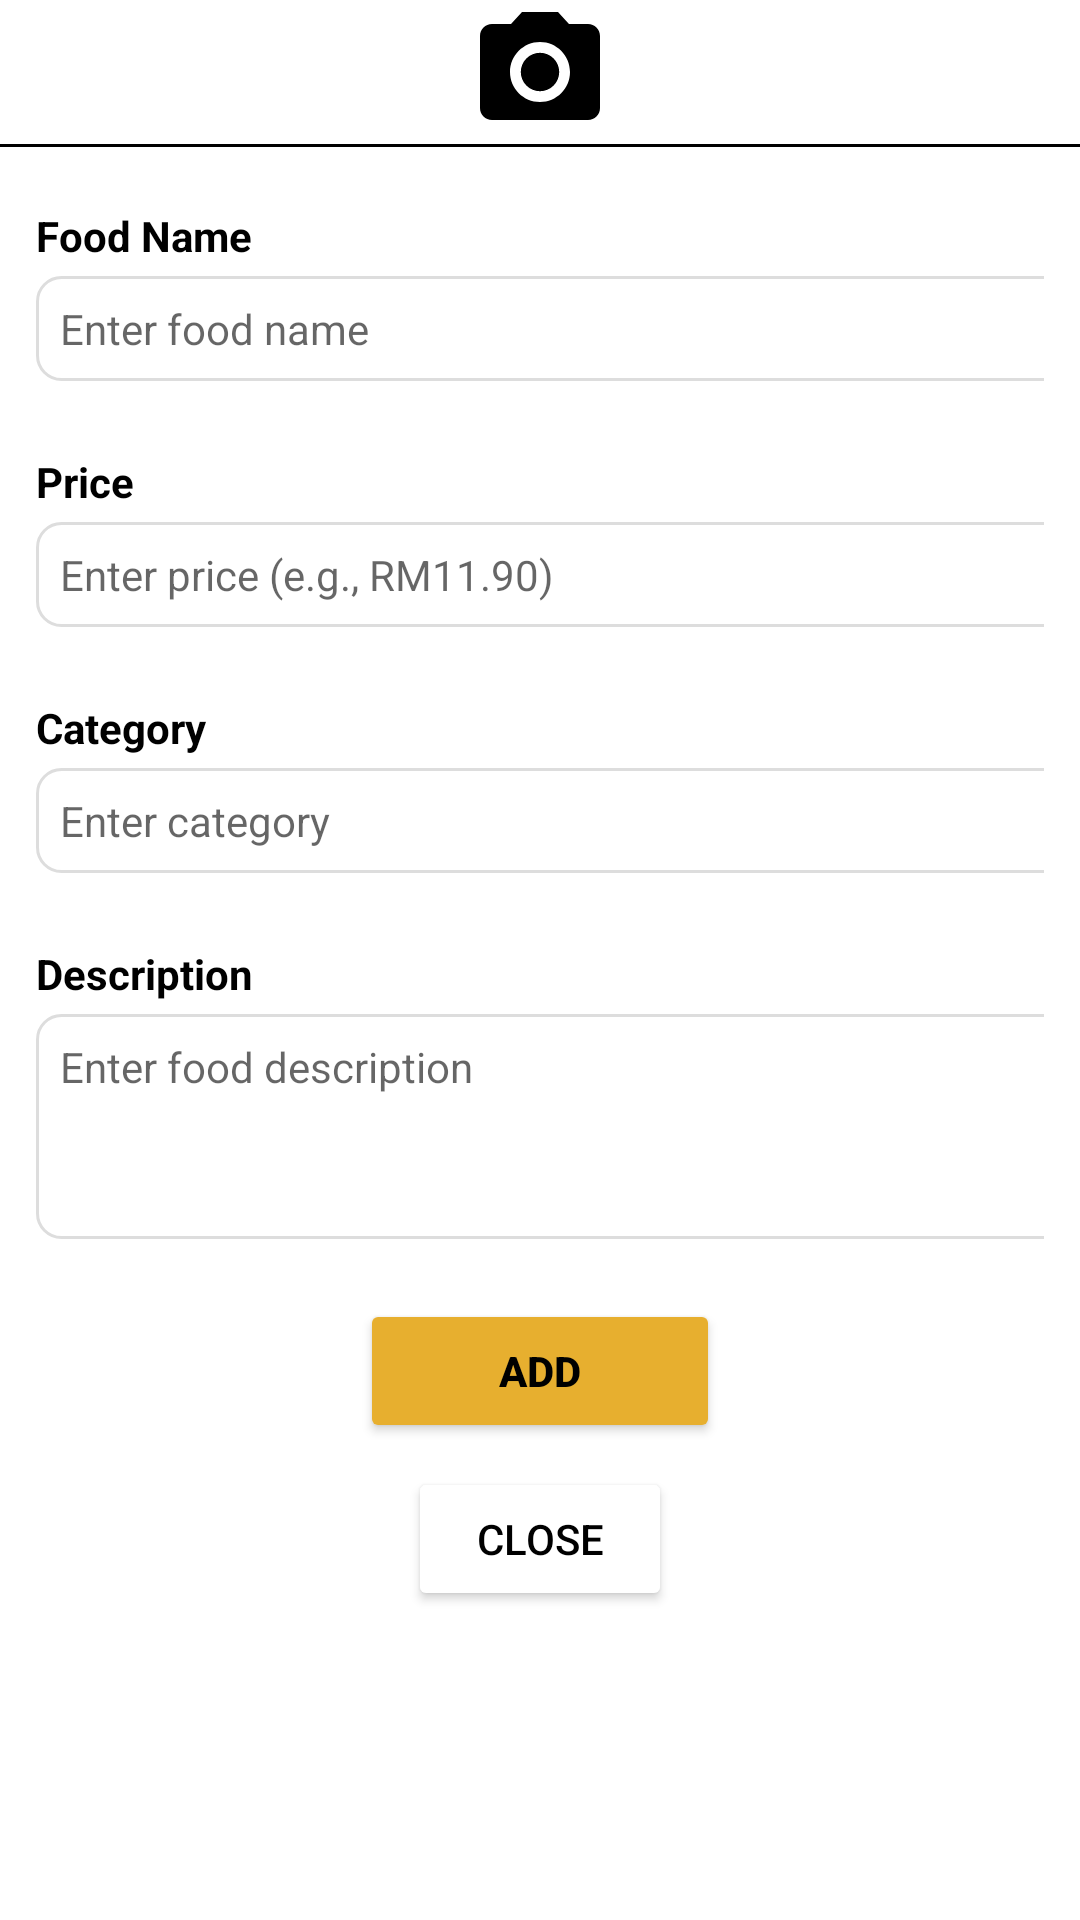

Locate icon controls on the screen. Image size 1080*1920, boxes as detection(x1, y1, x2, y2).
Upload food image: detection(480, 12, 600, 120)
